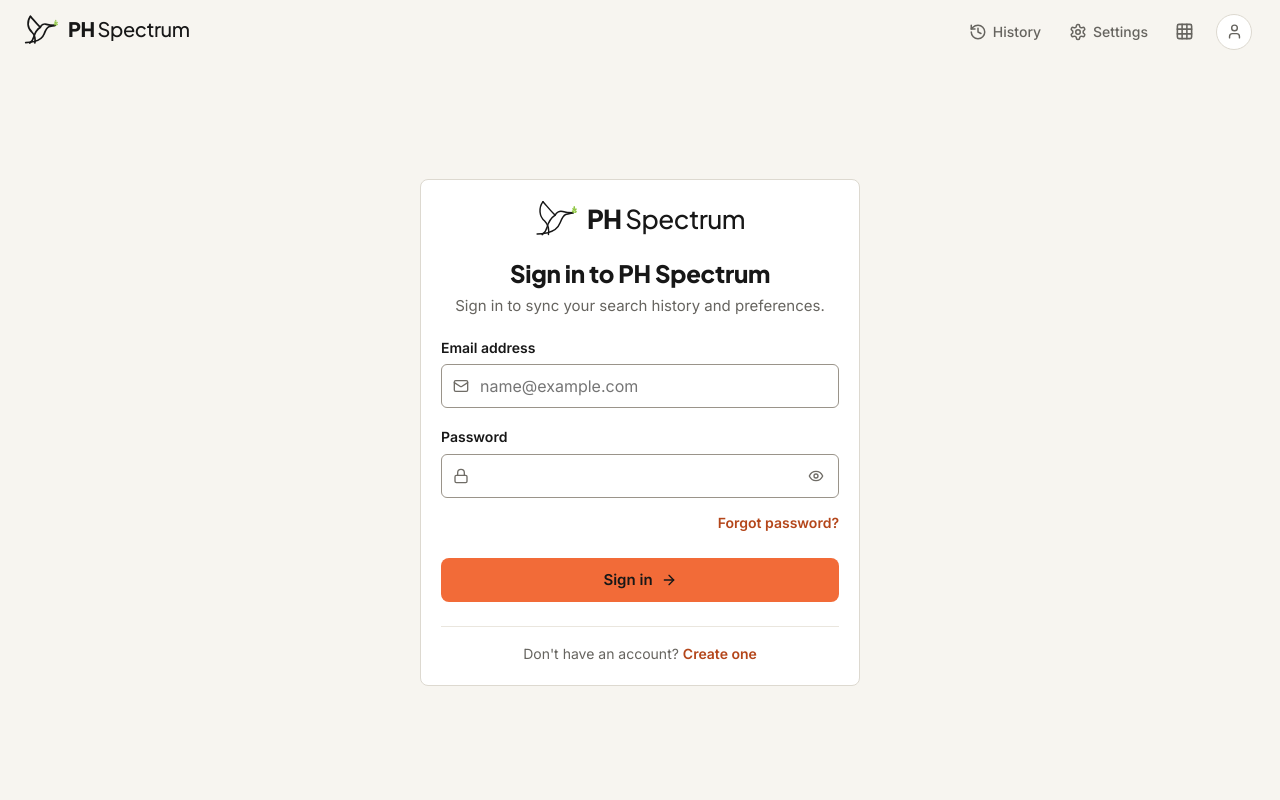
Scenario: the sign-in form › checks the fields before asking the server
Click the button "Sign in" at {"x": 640, "y": 580}, box [441, 558, 839, 602]
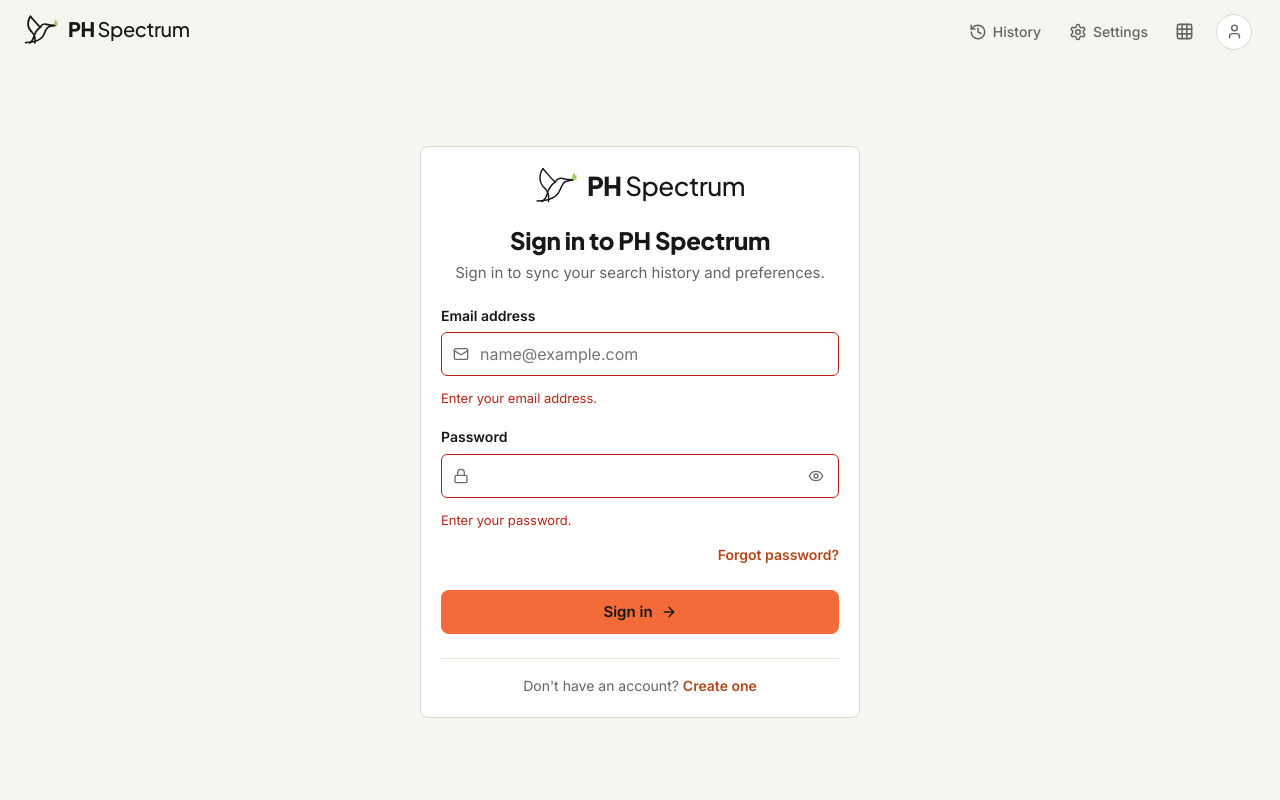
Result: the text "Enter your email address." is shown at [441, 390, 597, 406]
Result: the text "Enter your password." is shown at [441, 512, 572, 528]
Type "not-an-email" into the field labelled "Email address" at {"x": 640, "y": 354}, box [441, 332, 839, 376]
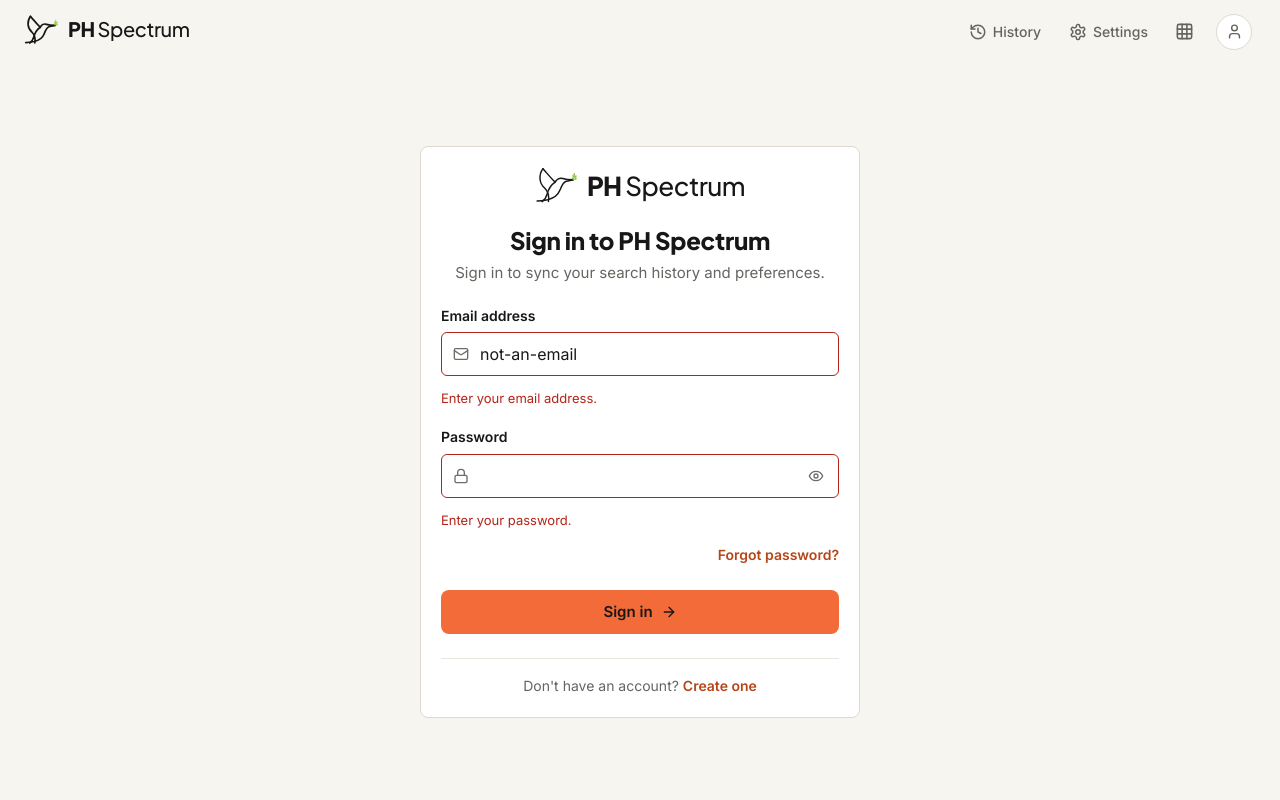
Click the button "Sign in" at {"x": 640, "y": 612}, box [441, 590, 839, 634]
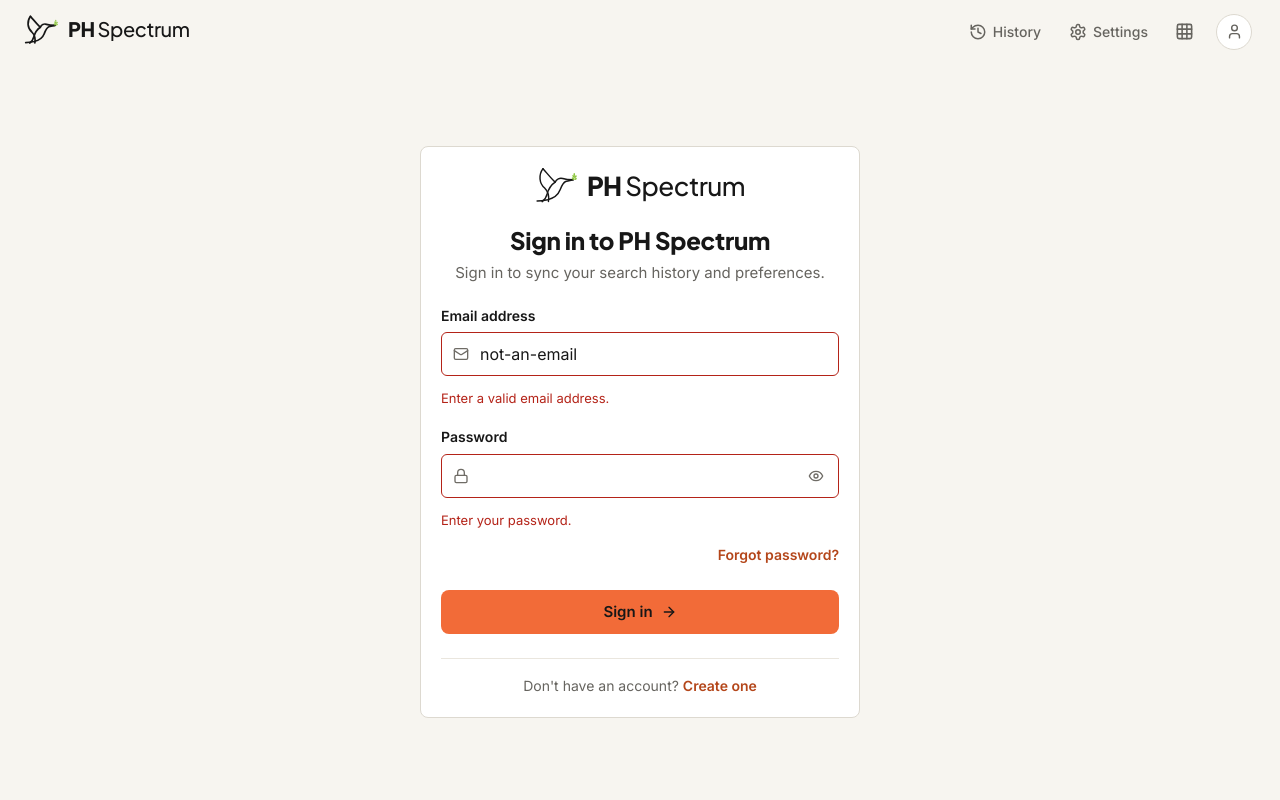
Result: the text "Enter a valid email address." is shown at [441, 390, 609, 406]
